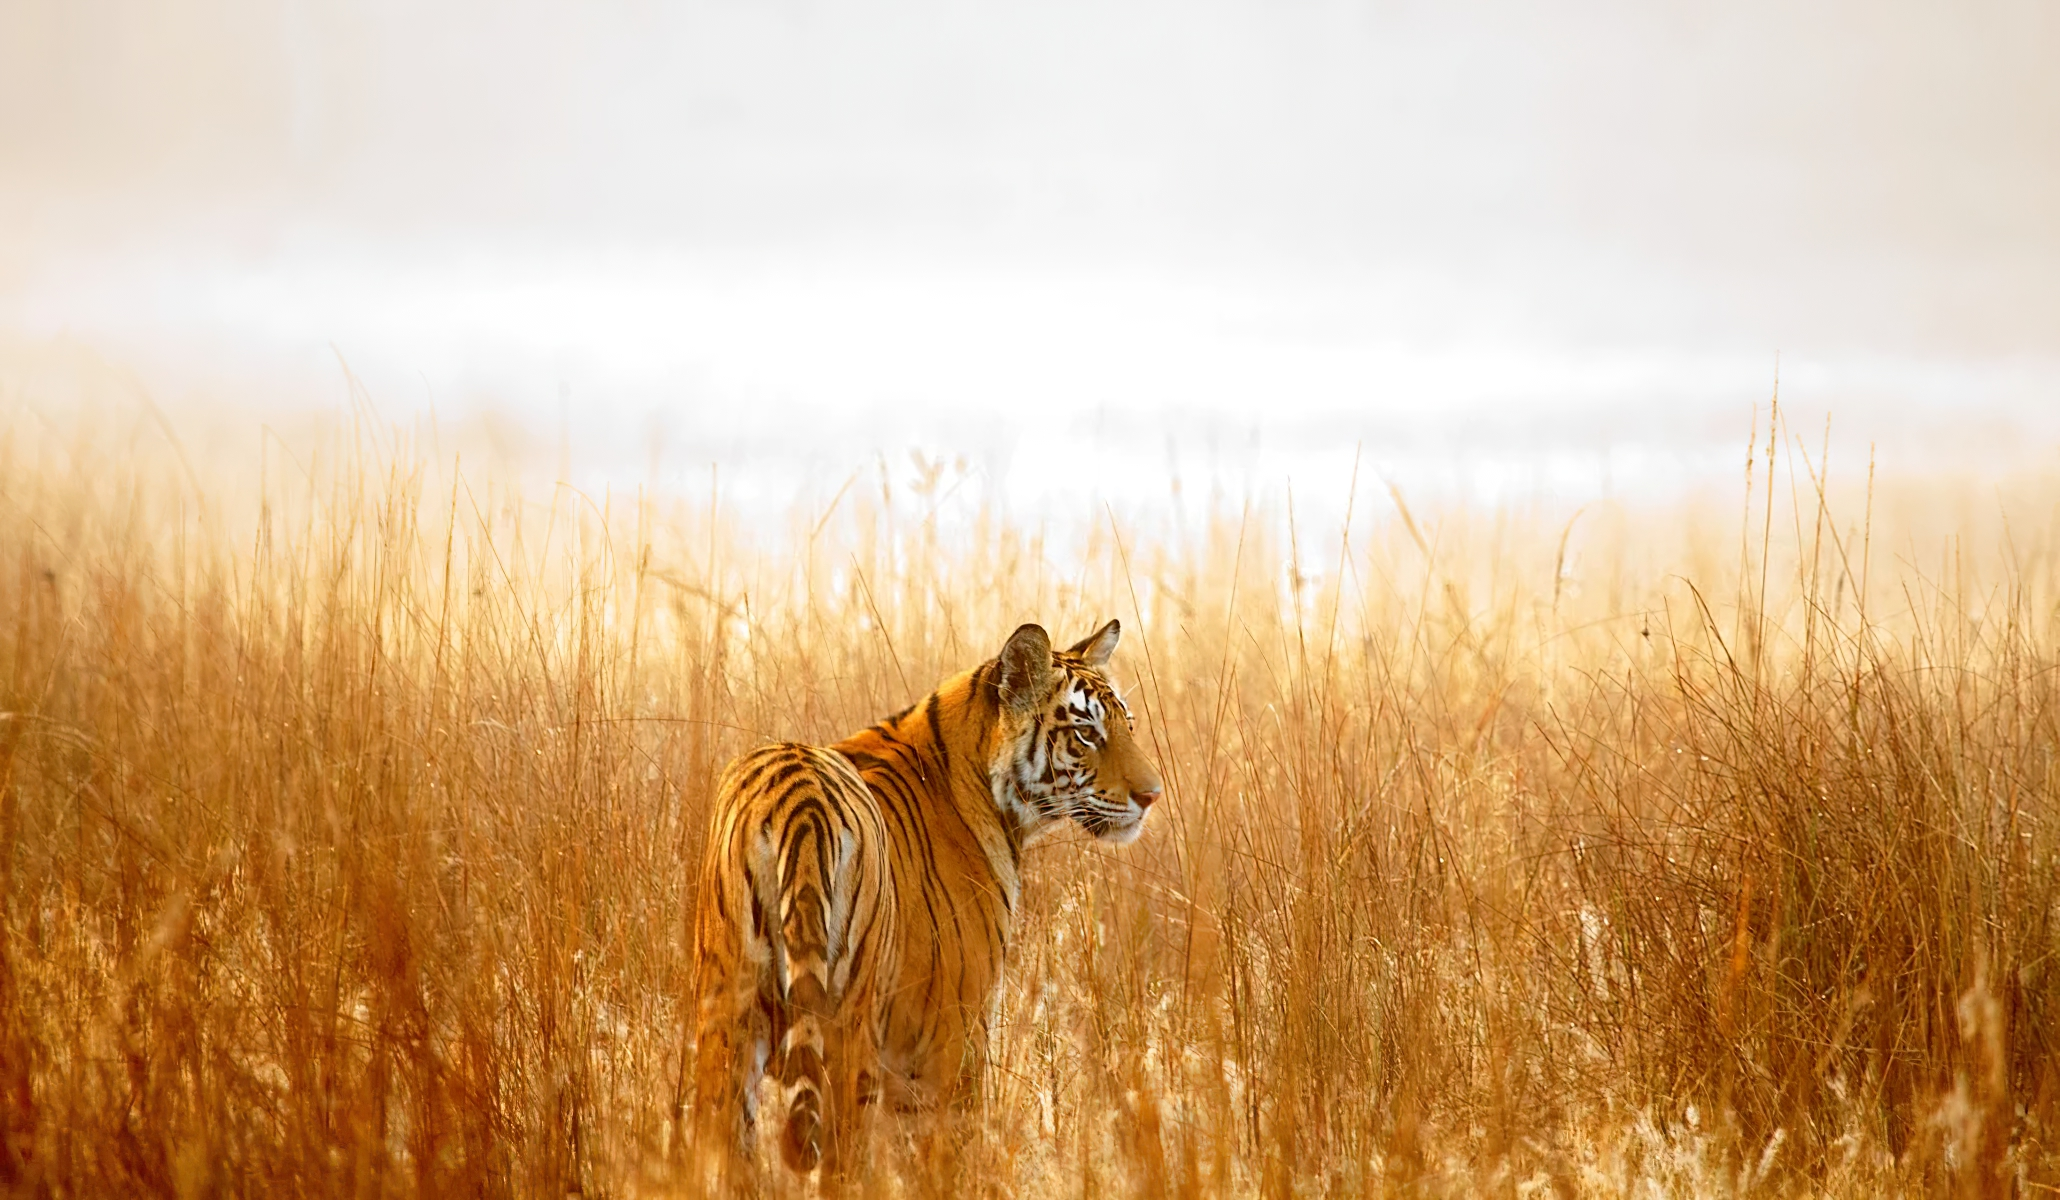tiger: (571, 619, 1286, 1180)
